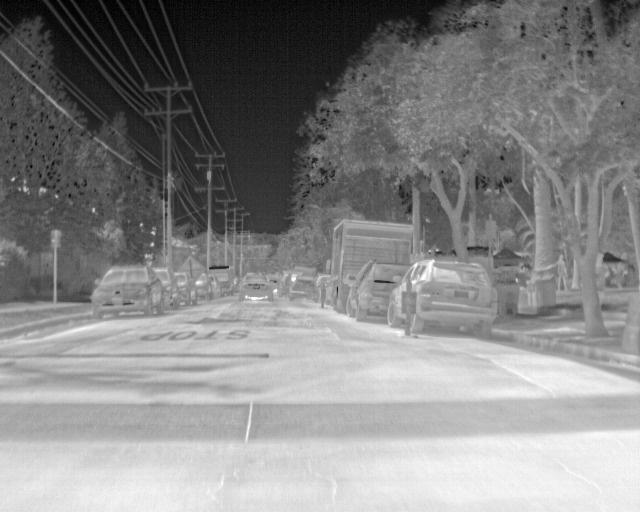bicycle: (388, 257, 497, 336), (347, 262, 414, 322), (91, 265, 162, 321), (150, 266, 177, 308), (238, 274, 274, 300), (289, 274, 319, 300), (174, 270, 193, 304)
